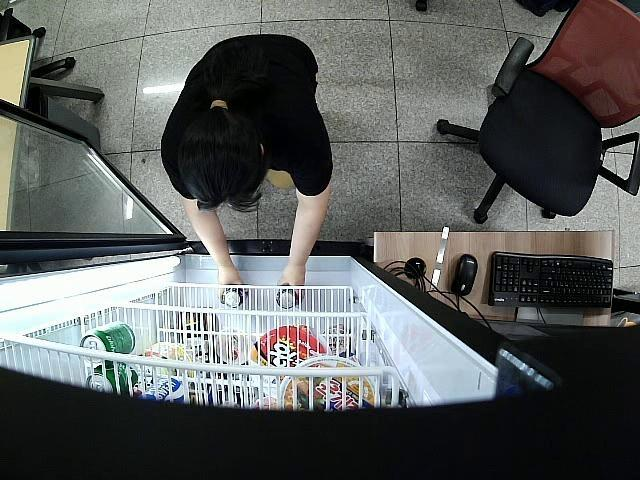14_welchsGrape: (276, 284, 300, 310), (221, 286, 244, 310)
